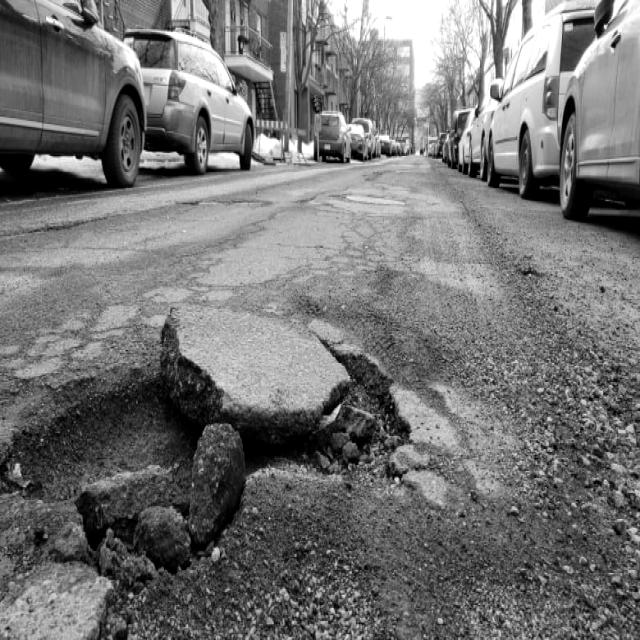pathole: (0, 304, 391, 636), (0, 371, 200, 501), (386, 386, 458, 510)
